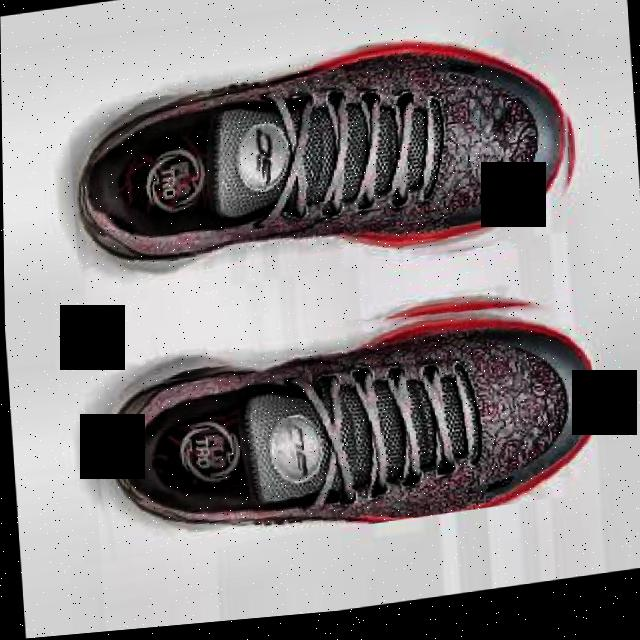shoe: (66, 24, 584, 314), (79, 287, 599, 565)
